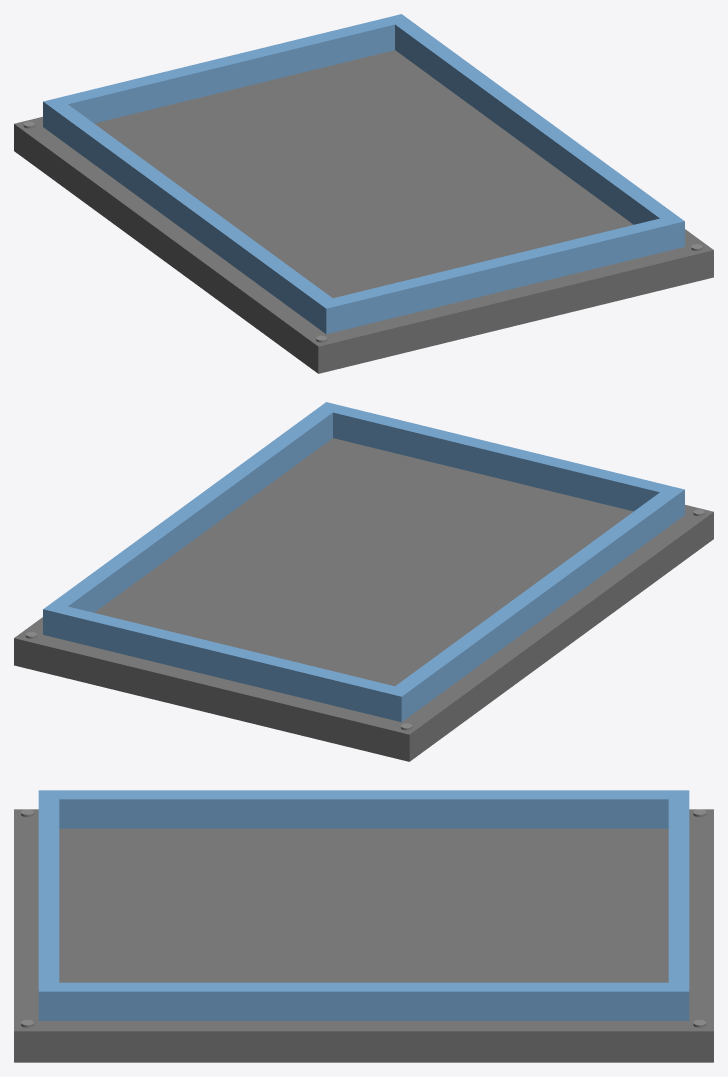
The model's file is board1.FBX.
3 renders of one model, top to bottom at view 1: azimuth 30°, elevation 25°; view 2: azimuth 150°, elevation 25°; view 3: azimuth 270°, elevation 25°, orthographic. The views are drawn at different scales.
Visible parts, largest first — view 1: Box002, Rectangle001; view 2: Box002, Rectangle001; view 3: Box002, Rectangle001.
Part boxes in pixels (<box>): Box002: <box>14,50,713,373</box>; Rectangle001: <box>43,14,684,334</box>; Box002: <box>14,438,713,761</box>; Rectangle001: <box>43,402,684,722</box>; Box002: <box>14,809,713,1062</box>; Rectangle001: <box>38,790,689,1020</box>.
Bounding box in the file's own units: 120 × 15.33 × 160.
